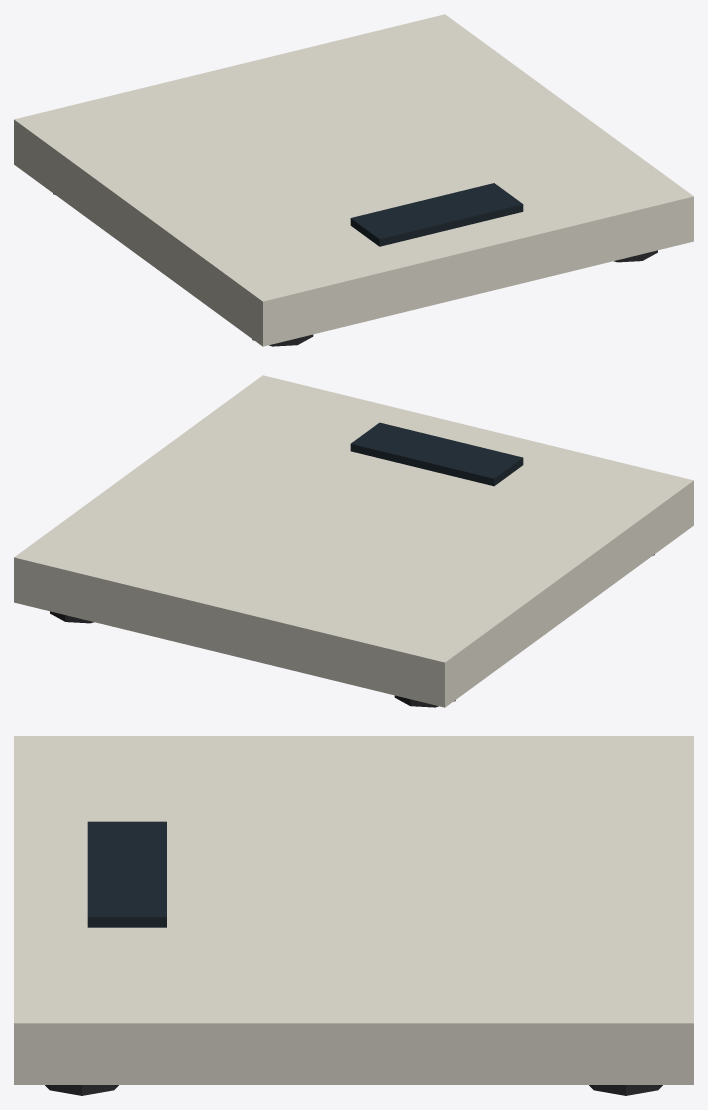
File: GT_BathroomScale_01.glb
3 views of the same model, one above another, from view 1: azimuth 30°, elevation 25°; view 2: azimuth 150°, elevation 25°; view 3: azimuth 270°, elevation 25° (orthographic). The views are drawn at different scales.
Parts seen in each view (by area): view 1: GT_BathroomScale_01; view 2: GT_BathroomScale_01; view 3: GT_BathroomScale_01.
Boxes of the visible parts, box(x1,y1,x2,y2) form: GT_BathroomScale_01: box(14, 14, 693, 346); GT_BathroomScale_01: box(14, 375, 693, 707); GT_BathroomScale_01: box(14, 736, 693, 1095).
Bounding box in the file's own units: 0.3 × 0.045 × 0.3.
1 material, 1 textured.
